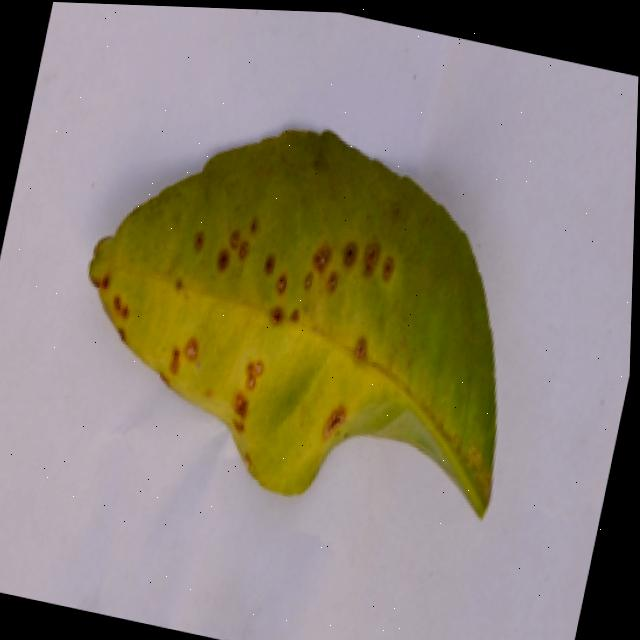canker: (89, 132, 495, 514), (155, 183, 420, 369), (137, 322, 282, 439), (61, 245, 152, 356), (290, 389, 363, 449)
